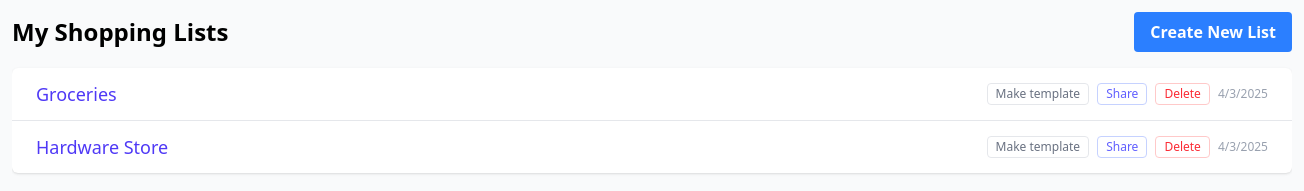
ShoppingListsPage Component › delete button prompts for confirmation and removes list on confirm
The width and height of the screenshot is (1304, 191).
Expected: the link "Groceries" is shown, [36,80,117,108]
Click the button "Delete" in the row of "Groceries" at point(1183, 94), box [1155,83,1210,105]
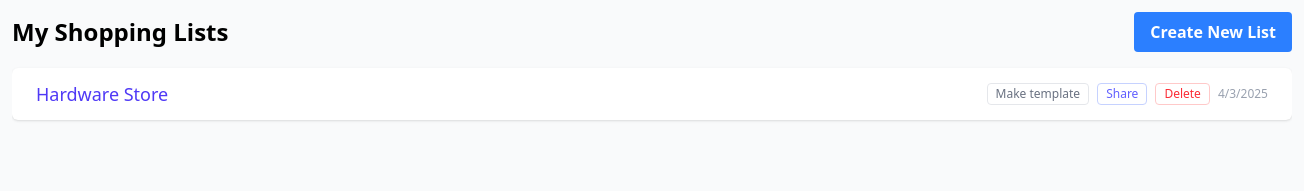
Expected: the link "Hardware Store" is shown, [36,80,168,108]
Result: the link "Groceries" is gone
